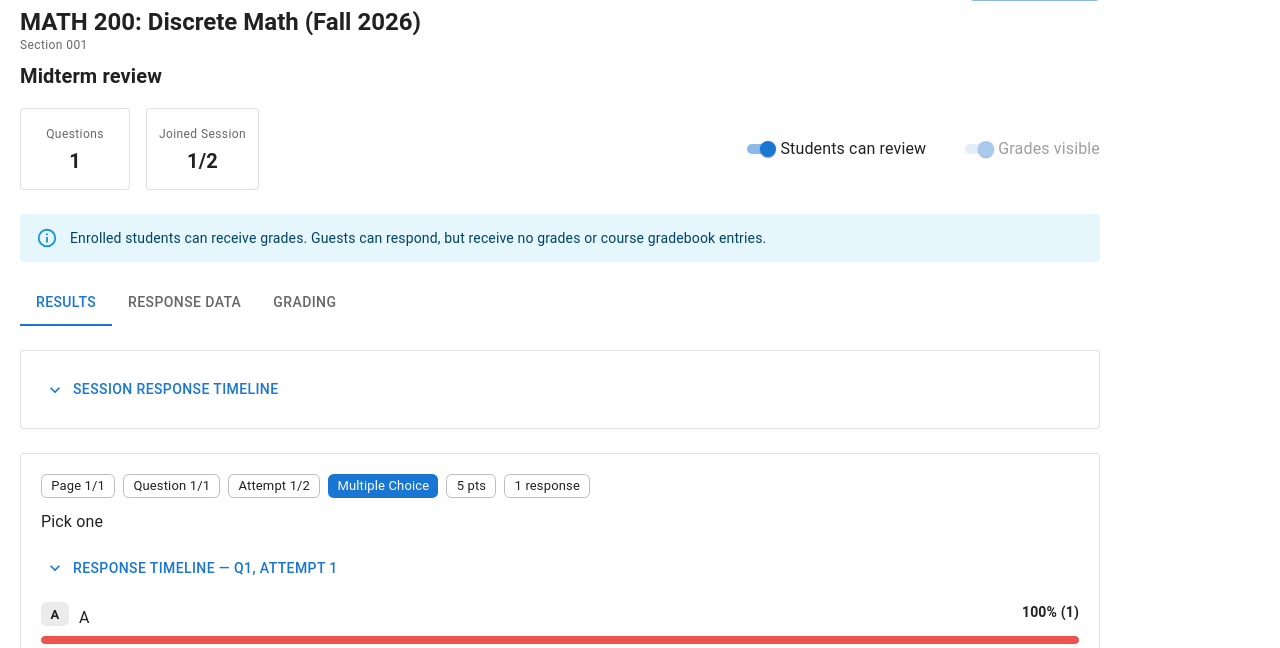
it: SessionReview › grades enrolled students and shows guest answers without grade controls in a shared named activity
The image size is (1280, 648).
Expected: the text "Enrolled students can receive grades" is shown, [70,230,766,246]
What coordinates should you click on to do the following:
click the tab "Response Data"
I would click on:
 (185, 302)
Its box is [112,278,257,326].
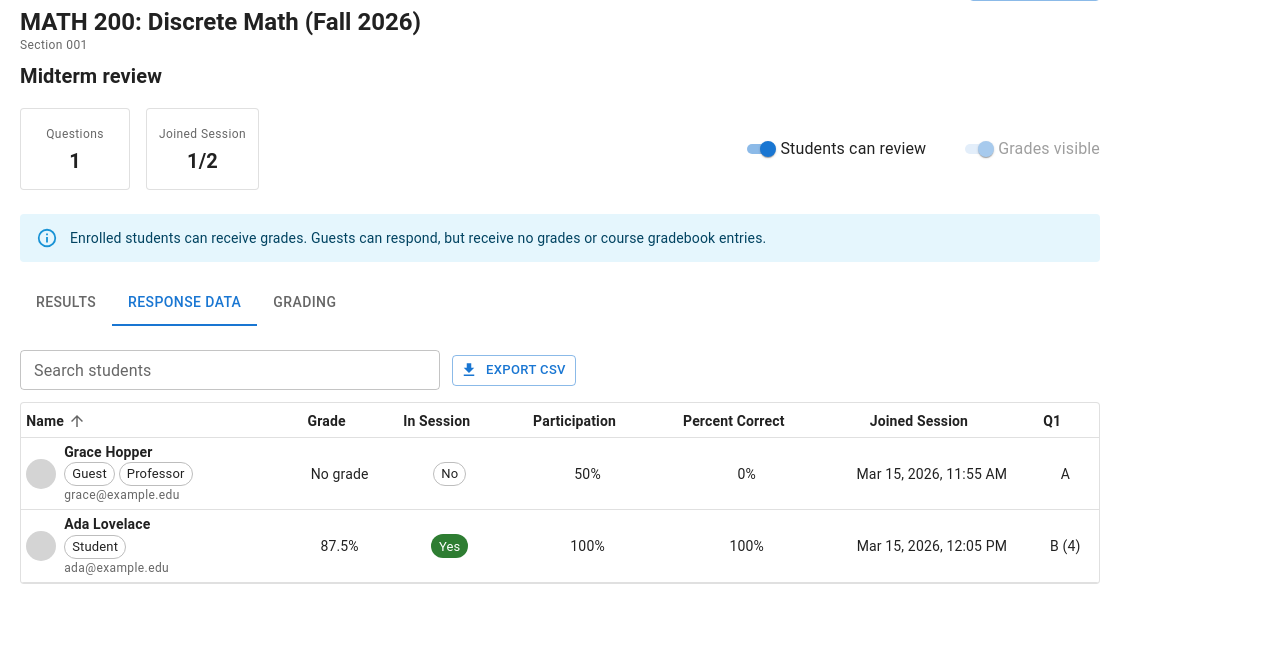
Expected: the text "Guest" is shown, [72,466,107,481]
Expected: the text "Professor" is shown, [127,466,185,481]
Expected: the text "Student" is shown, [72,539,118,554]
What coordinates should you click on to do the following:
click the tab "Grading"
I would click on:
 (305, 302)
Its box is [257,278,352,326].
(page scrolled)
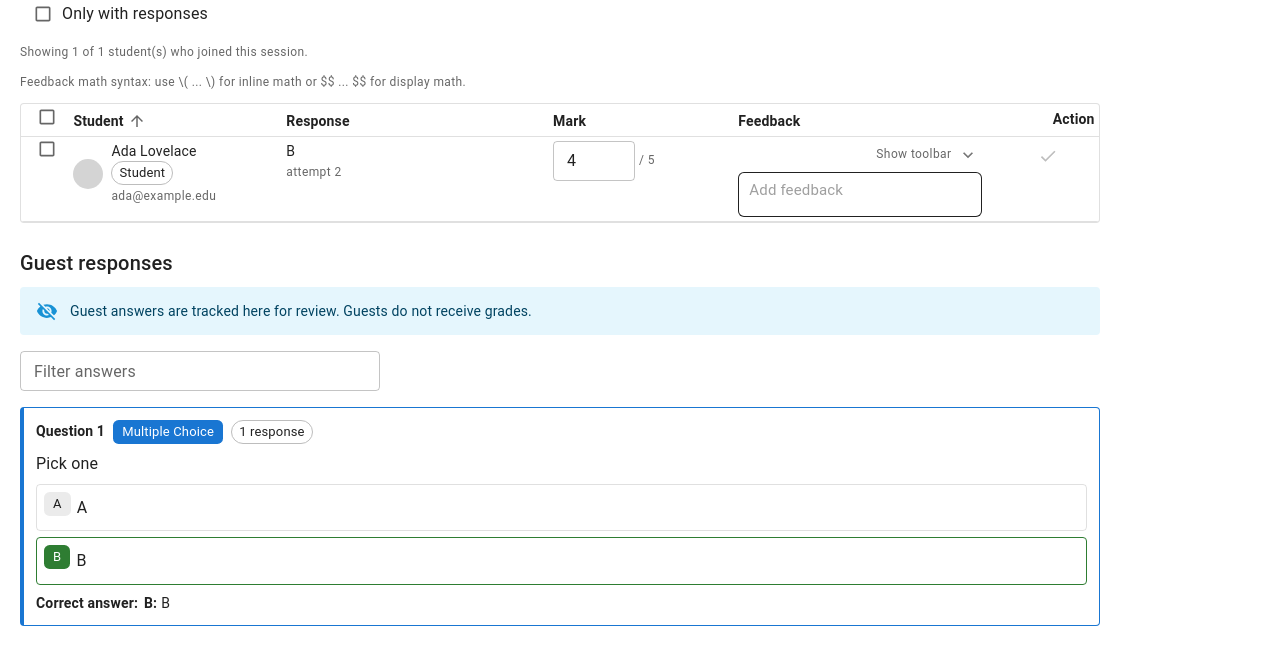
Expected: the heading "Guest responses" is shown, [20,251,173,275]
Expected: the text "Guests do not receive grades" is shown, [70,303,532,319]
